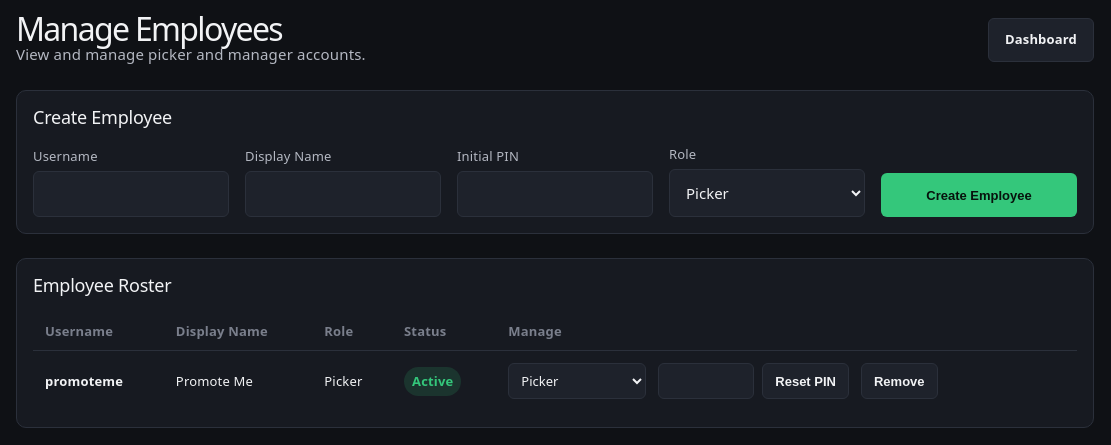
AdminPage › changes an employee's role and shows the new role afterward
Select "Manager/Admin" in the dropdown named "change role" at {"x": 577, "y": 382}, box [508,364,646,400]
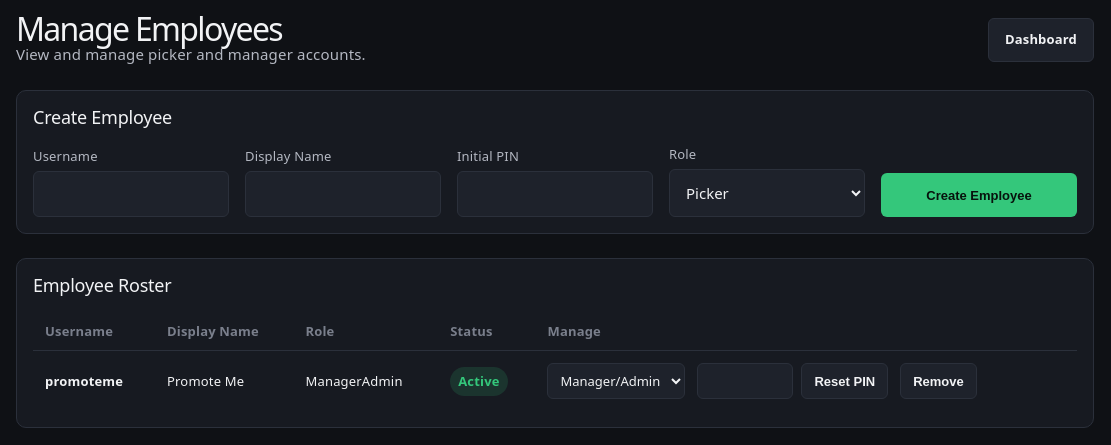
Now the text "ManagerAdmin" is shown, box [294,351,438,412]
